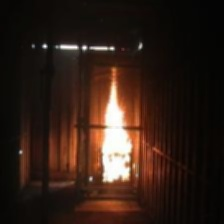fire: (96, 74, 135, 186)
